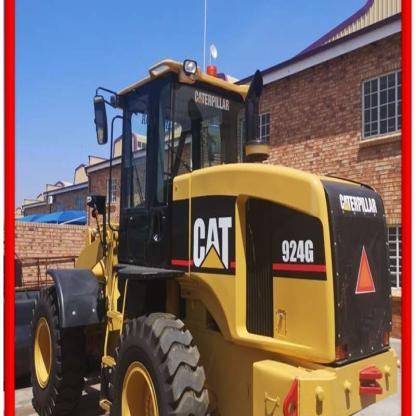bull_dozer/loader/grader: (23, 69, 397, 416)
